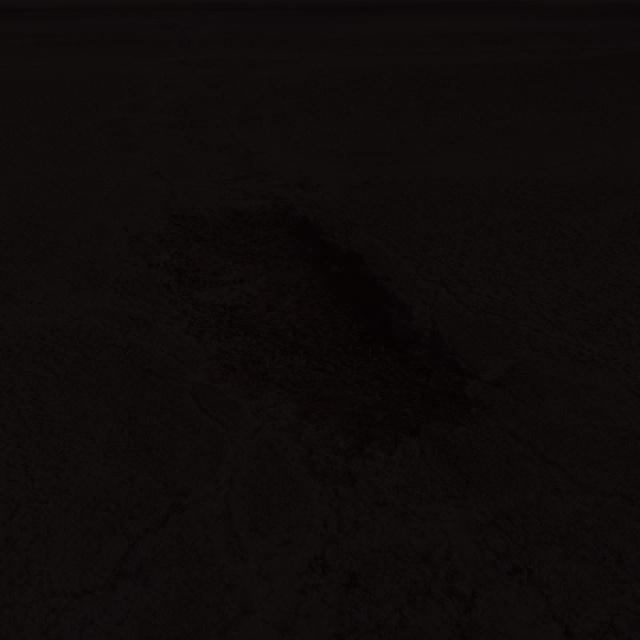Pothole: (141, 193, 488, 458)
